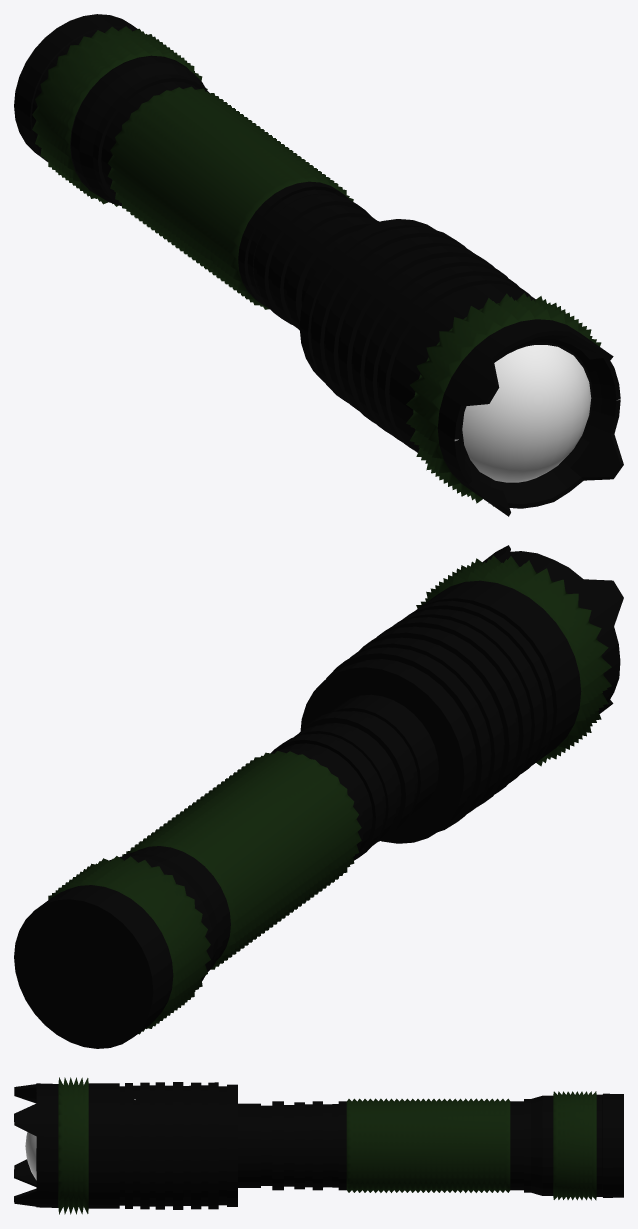
The model's file is flashsss.fbx.
The picture shows the model from 3 angles, top to bottom: view 1: azimuth 30°, elevation 25°; view 2: azimuth 150°, elevation 25°; view 3: azimuth 270°, elevation 25°; orthographic projection. The views are drawn at different scales.
Visible parts, largest first — view 1: edit, bulb; view 2: edit; view 3: edit, bulb.
Part boxes in pixels (x1,y1,x2,y2): edit: (14,14,623,516); bulb: (462,345,591,482); edit: (14,545,623,1048); edit: (14,1077,623,1214); bulb: (25,1132,36,1180).
Size of the model in its own units: 2.26 by 2.26 by 10.03.
1 material, 1 textured.
